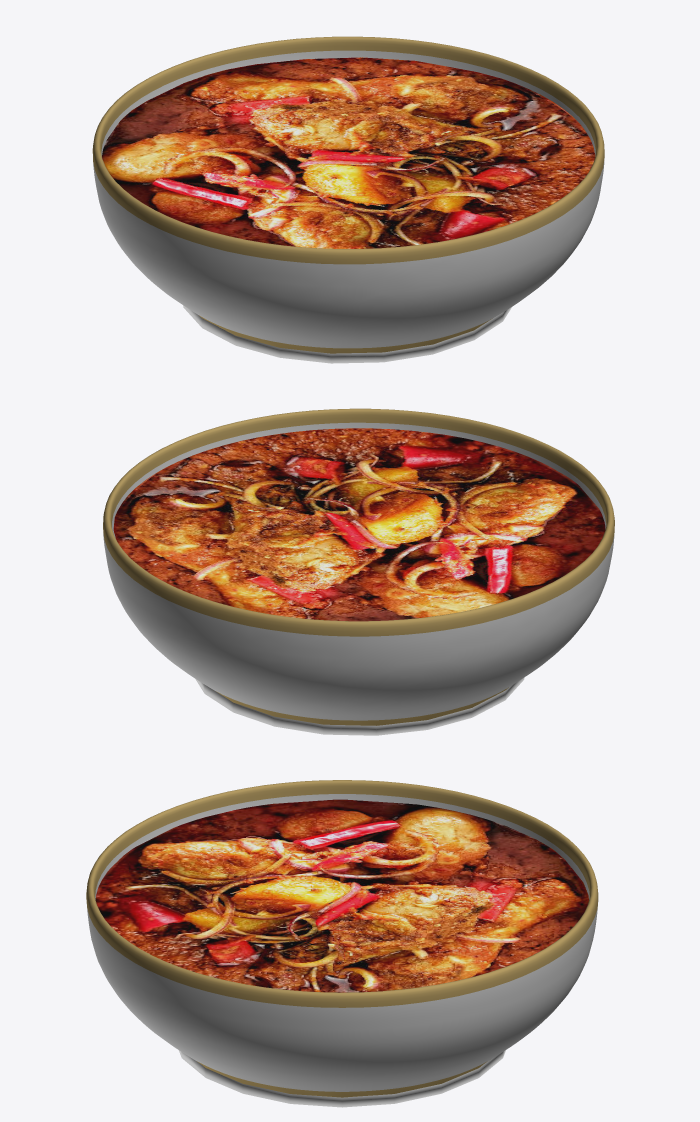
Rendered from foodlast.fbx.
3 views of the same model, one above another, from view 1: azimuth 30°, elevation 25°; view 2: azimuth 150°, elevation 25°; view 3: azimuth 270°, elevation 25° (orthographic).
Parts seen in each view (by area): view 1: pDisc2; view 2: pDisc2; view 3: pDisc2.
Part boxes in pixels (left/top/right/bottom): pDisc2: left=92, top=36, right=604, bottom=363; pDisc2: left=103, top=408, right=614, bottom=735; pDisc2: left=86, top=780, right=598, bottom=1107.
Size of the model in its own units: 29.73 by 7.3 by 29.73.
3 materials, 1 textured.
